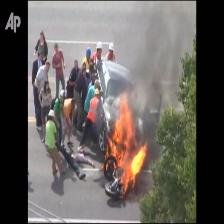fire: (102, 97, 147, 192)
